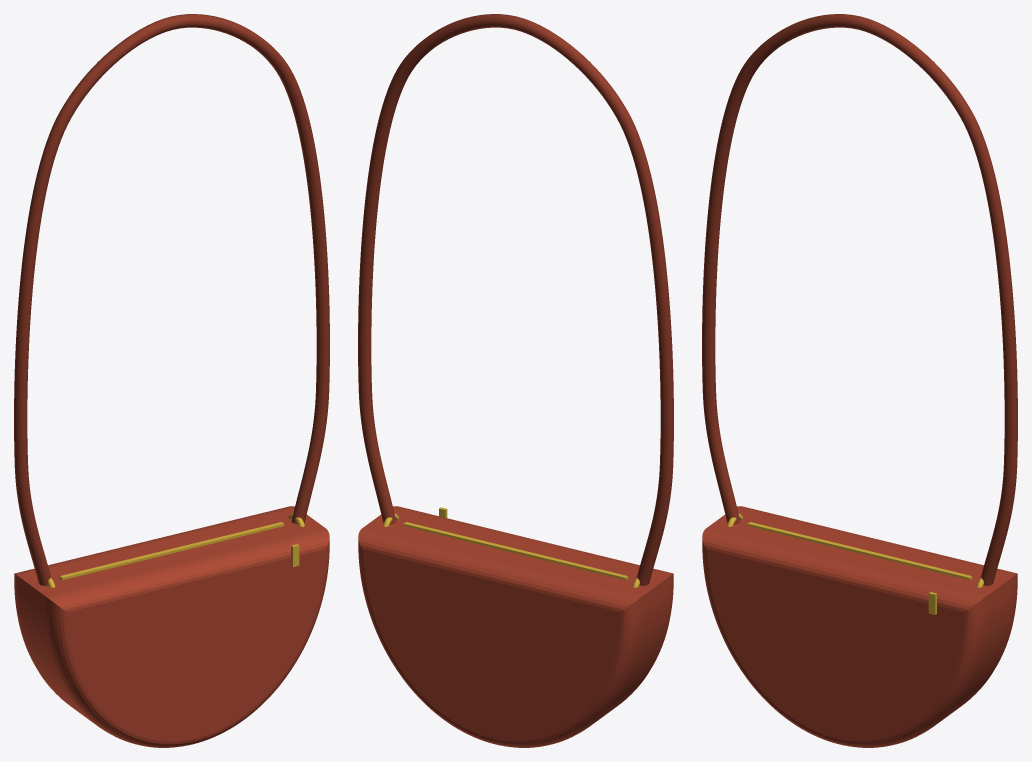
The model's file is bolso-bandolera.glb.
3 views of the same model, side by side, from view 1: azimuth 30°, elevation 25°; view 2: azimuth 150°, elevation 25°; view 3: azimuth 330°, elevation 25° (orthographic).
Parts seen in each view (by area): view 1: Cuerpo, Correa, Cremallera; view 2: Cuerpo, Correa, Cremallera; view 3: Cuerpo, Correa, Cremallera.
Part boxes in pixels (box(x1,y1,x2,y2)): Cuerpo: box(14, 506, 329, 747); Correa: box(14, 14, 329, 585); Cremallera: box(59, 522, 284, 580); Cuerpo: box(358, 506, 673, 747); Correa: box(358, 14, 673, 585); Cremallera: box(403, 522, 628, 580); Cuerpo: box(702, 506, 1017, 747); Correa: box(702, 14, 1017, 585); Cremallera: box(747, 522, 972, 580).
Size of the model in its own units: 0.2918 by 0.6352 by 0.0805.
